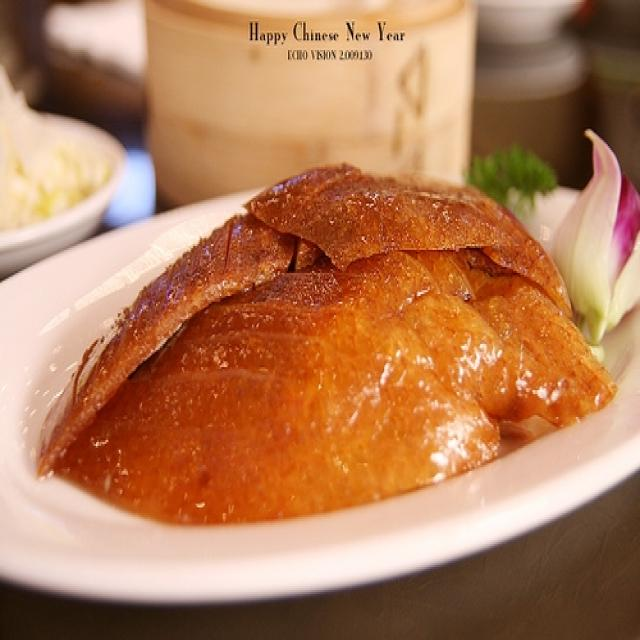烧串烤肉: (26, 142, 626, 567)
